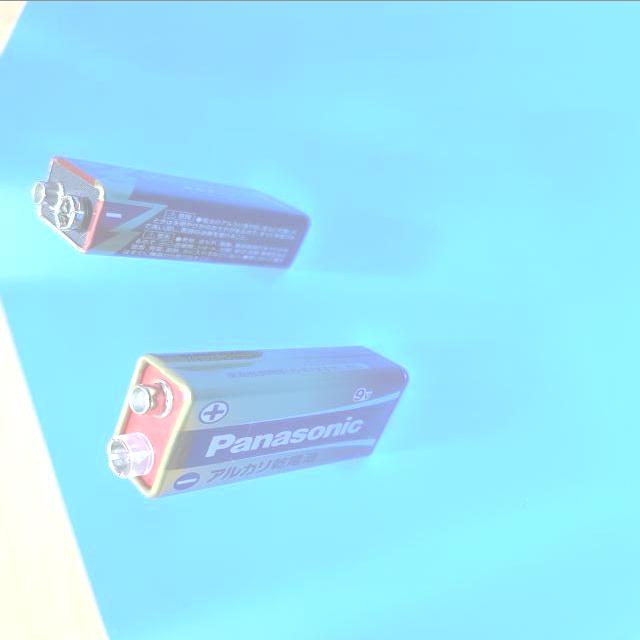9V: (101, 347, 409, 498), (29, 155, 315, 270)
